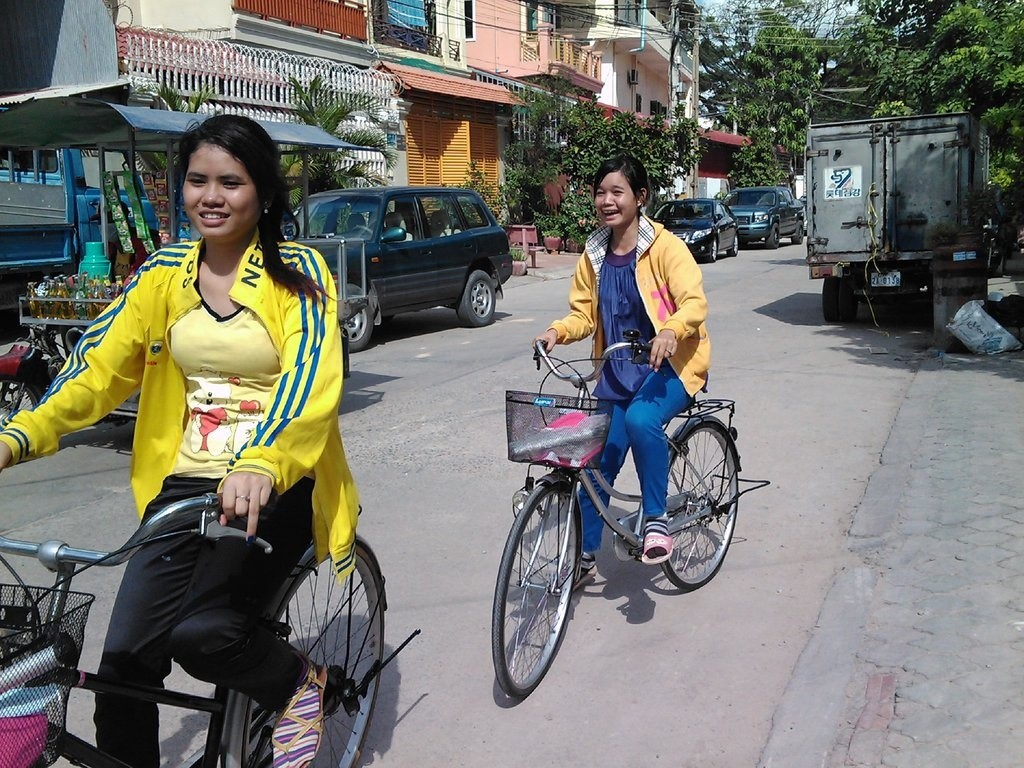face_no_mask: (179, 113, 280, 241), (594, 152, 648, 229)
